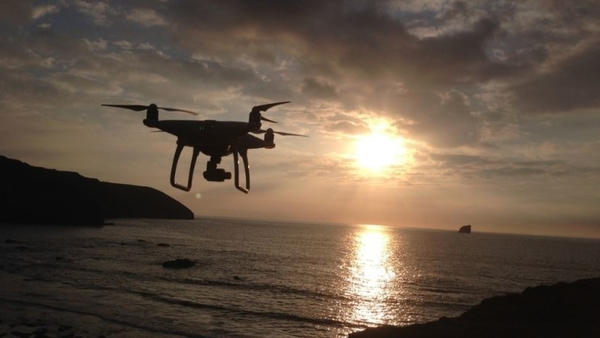drone: (99, 97, 309, 195)
